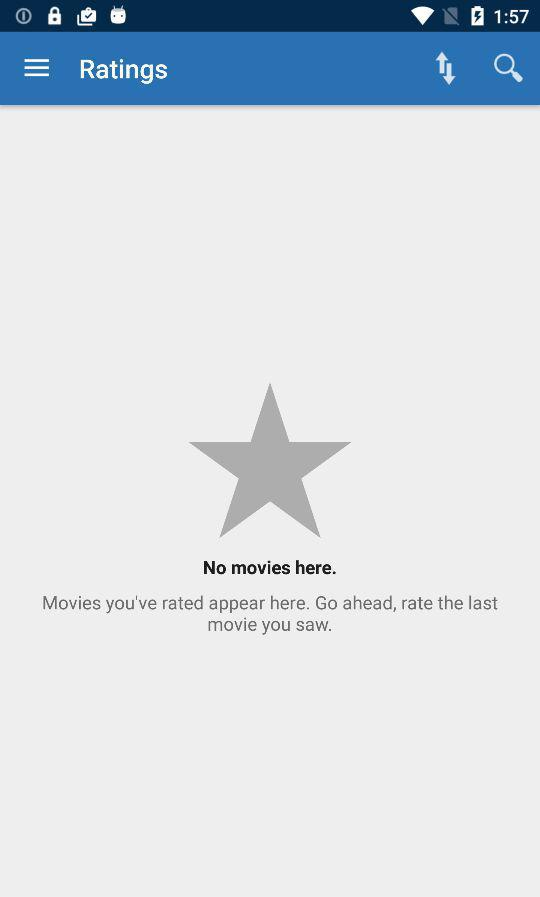Icon: (189, 383, 352, 539), (493, 54, 524, 84), (435, 51, 457, 87), (24, 59, 51, 79)
Text: (43, 595, 498, 636), (81, 59, 169, 86), (204, 559, 337, 575)
Toolbar: (1, 33, 540, 106)
UpperTaskBar: (1, 1, 540, 33)
